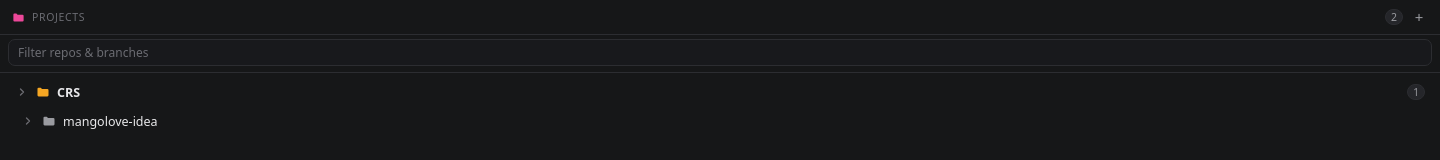
Test: <ProjectTree> › filtering by repo name shows only matching repos (others hidden)
Type "mango" into the search field with test id "project-filter" at (720, 52), box [8, 39, 1432, 66]
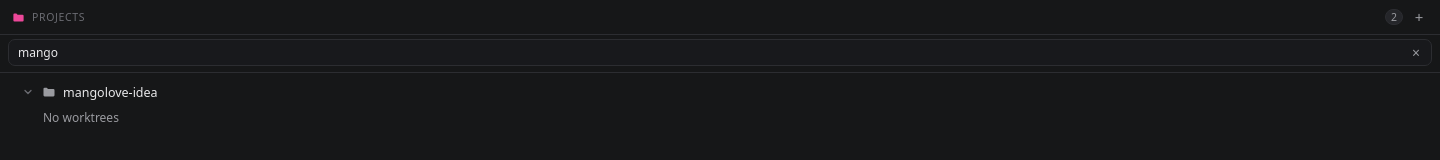
Check: the list item with test id "repo-node-mangolove-idea" is shown, box [22, 84, 158, 100]
Check: the list item with test id "group-node-CRS" is gone
